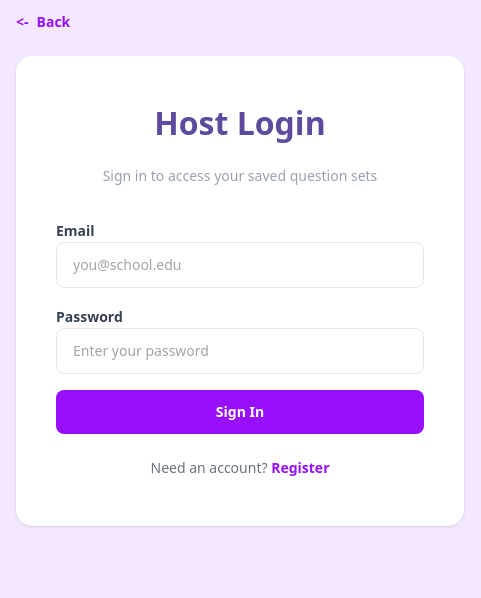
Test: HostLogin › shows an error message when sign-in fails
Type "teacher@school.edu" into the field with placeholder "you@school.edu".
click(240, 265); type("teacher@school.edu")  # box [56,242,424,288]
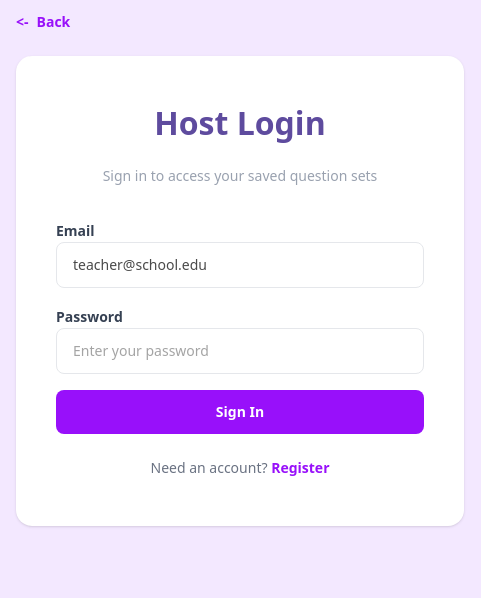
Type "bad" into the password field with placeholder "Enter your password".
click(240, 351); type("bad")  # box [56,328,424,374]
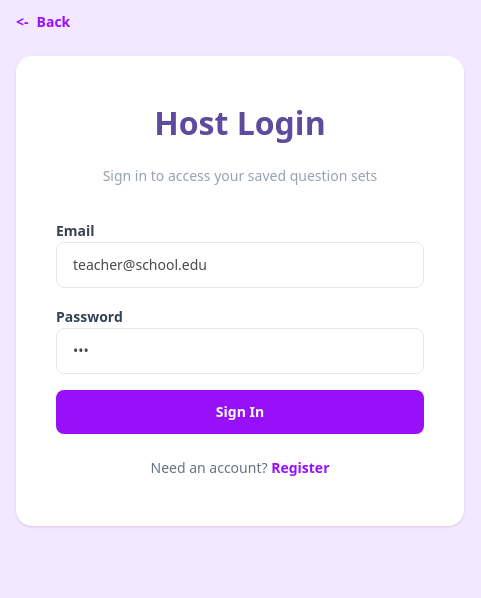
Click the button "Sign In".
click(240, 412)  # box [56,390,424,434]
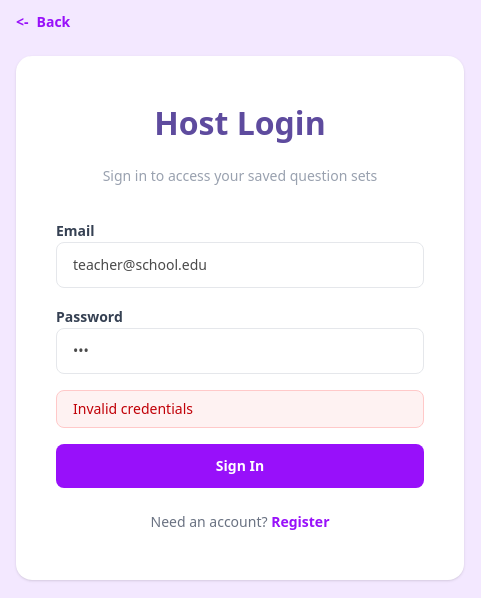
expect the text "Invalid credentials" is shown: met, box [56,390,424,428]
